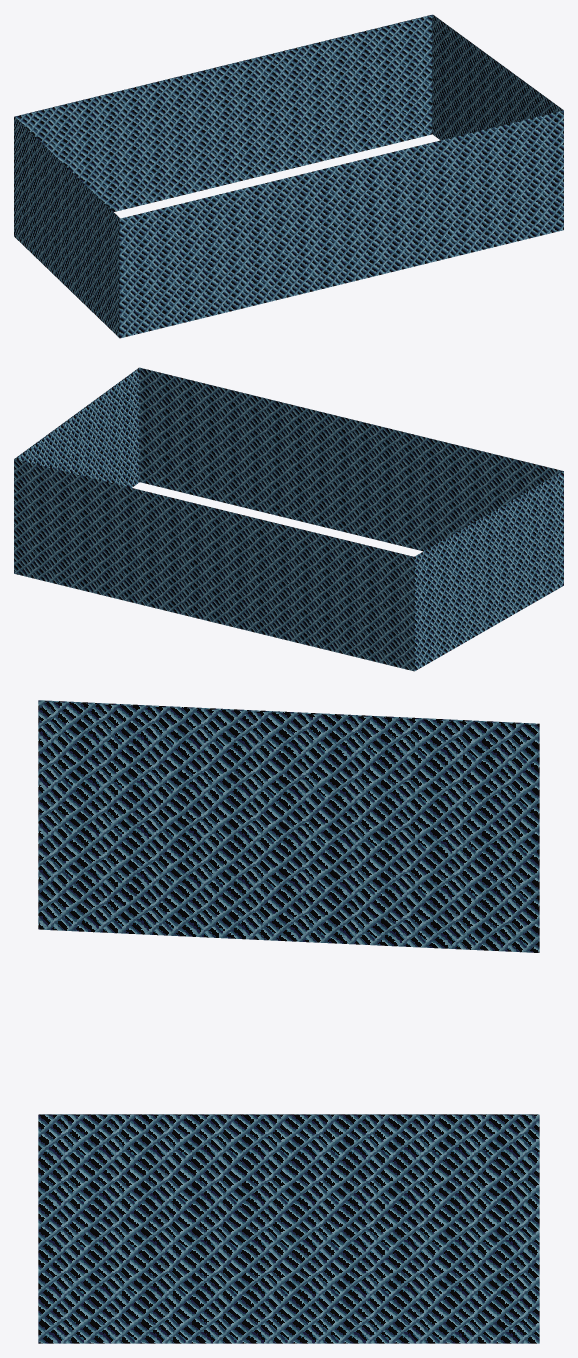
File: grade.fbx
The picture shows the model from 3 angles, top to bottom: view 1: azimuth 30°, elevation 25°; view 2: azimuth 150°, elevation 25°; view 3: azimuth 270°, elevation 25°; orthographic projection. The views are drawn at different scales.
Visible parts, largest first — view 1: grade; view 2: grade; view 3: grade.
Part boxes in pixels (x1,y1,x2,y2): grade: [14, 14, 563, 338]; grade: [14, 367, 563, 671]; grade: [38, 700, 539, 1343].
Size of the model in its own units: 20322 by 5237 by 10381.
